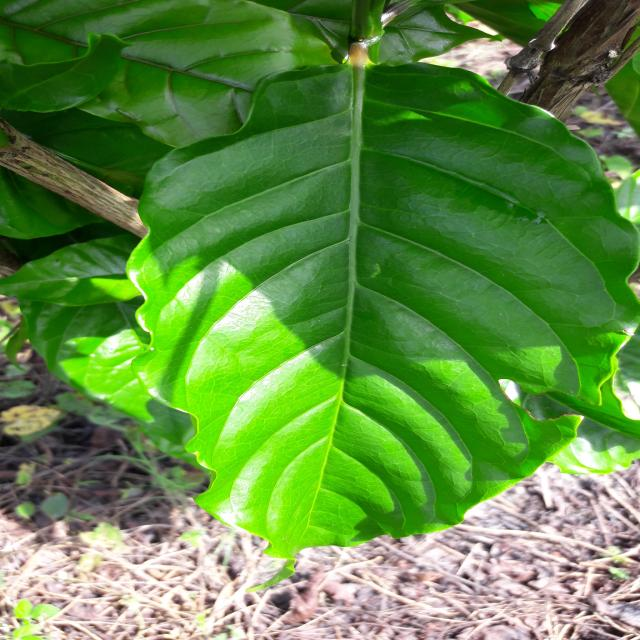Sanas: (94, 62, 640, 560)
